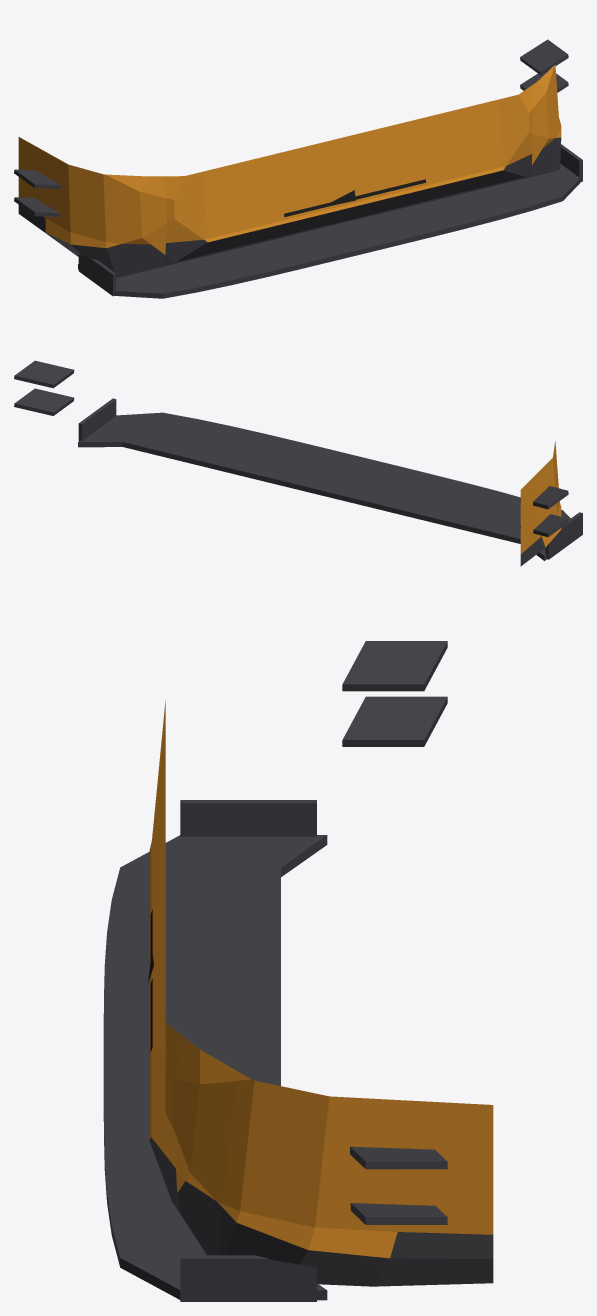
Rendered from protoCoupe_frontBumper_kurogane.glb.
The picture shows the model from 3 angles, top to bottom: view 1: azimuth 30°, elevation 25°; view 2: azimuth 150°, elevation 25°; view 3: azimuth 270°, elevation 25°; orthographic projection. The views are drawn at different scales.
Visible parts, largest first — view 1: frontBumper_kurogane; view 2: frontBumper_kurogane; view 3: frontBumper_kurogane.
Boxes of the visible parts, x1,y1,x2,y2 form: frontBumper_kurogane: (14, 39, 582, 298); frontBumper_kurogane: (14, 360, 582, 566); frontBumper_kurogane: (103, 641, 493, 1301).
Bounding box in the file's own units: 1.81 × 0.3438 × 0.571.
